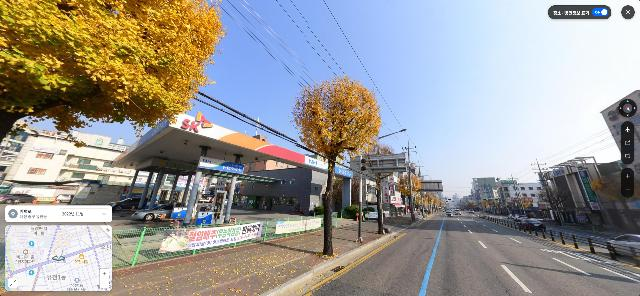ginkgo: (1, 0, 232, 154), (287, 71, 386, 257), (396, 172, 427, 222)
other: (349, 139, 399, 236)
